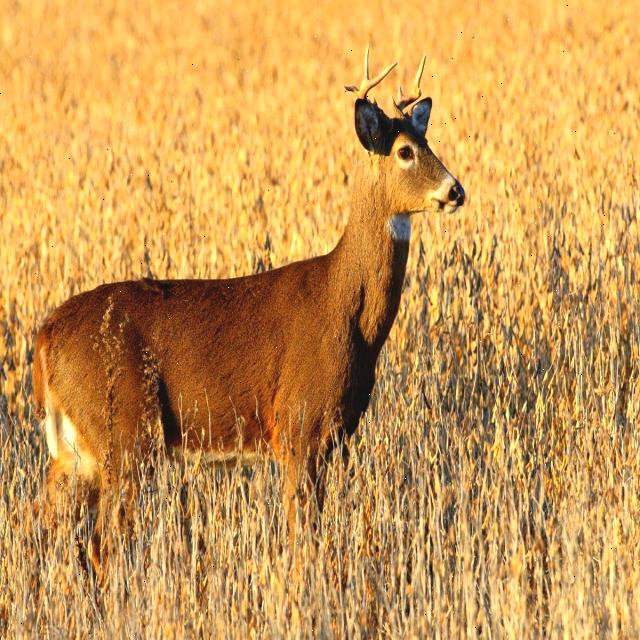deer: (329, 38, 478, 266)
